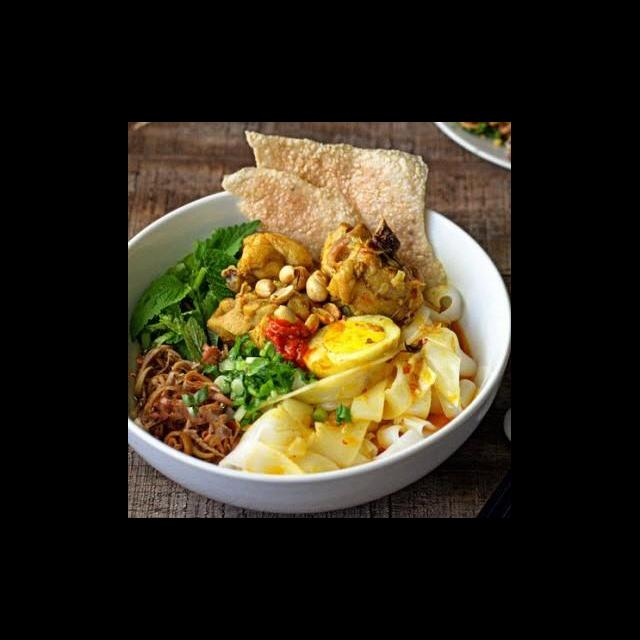banh da: (240, 126, 452, 289), (218, 162, 376, 268)
mi: (215, 345, 442, 480), (389, 282, 482, 422)
thit ga: (314, 214, 428, 329), (202, 283, 332, 356), (216, 230, 332, 308)
trung: (302, 312, 404, 382)
